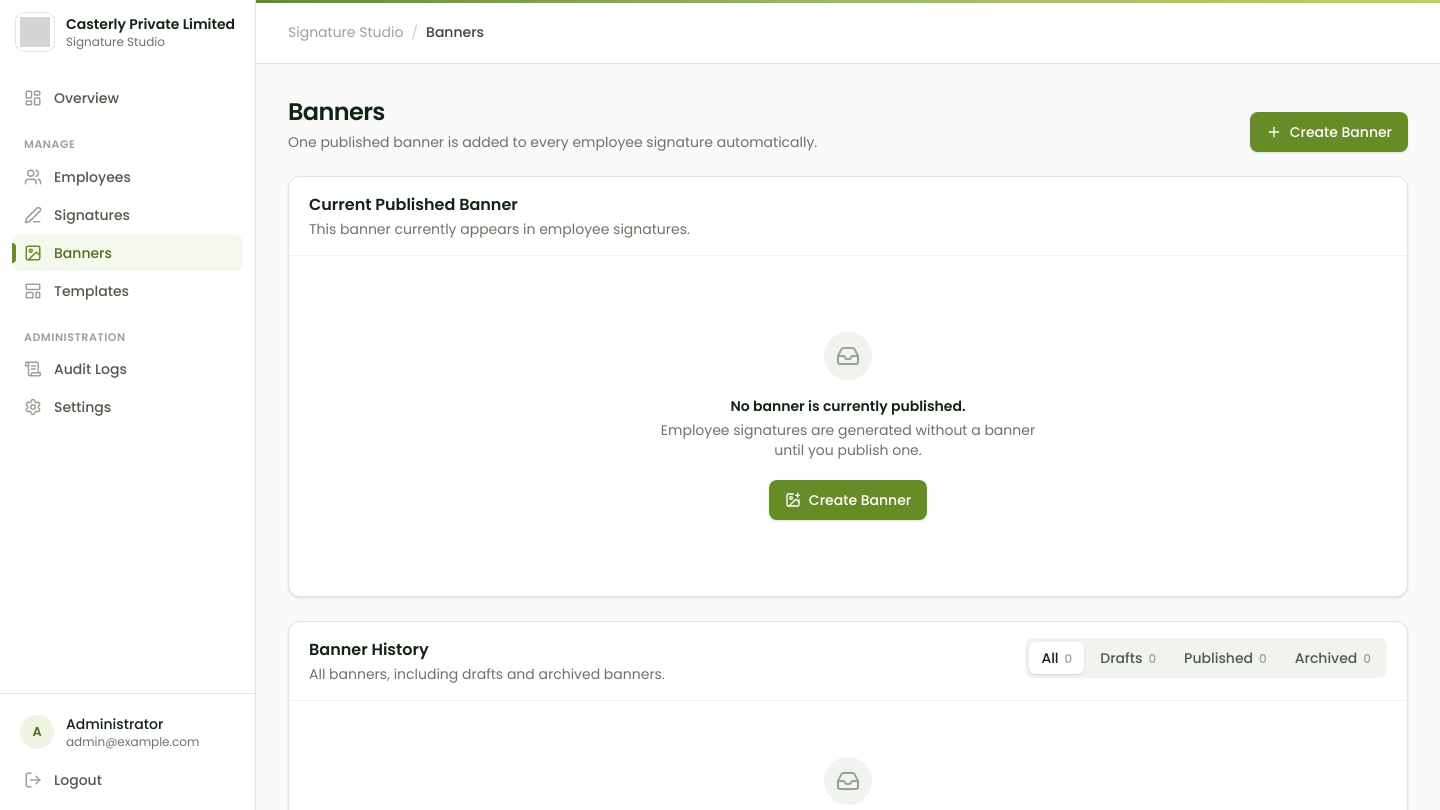
Test: Banner creation & preview › requires name, title and image
Click the 1st button "Create Banner" at (1329, 132), box [1250,112,1408,152]
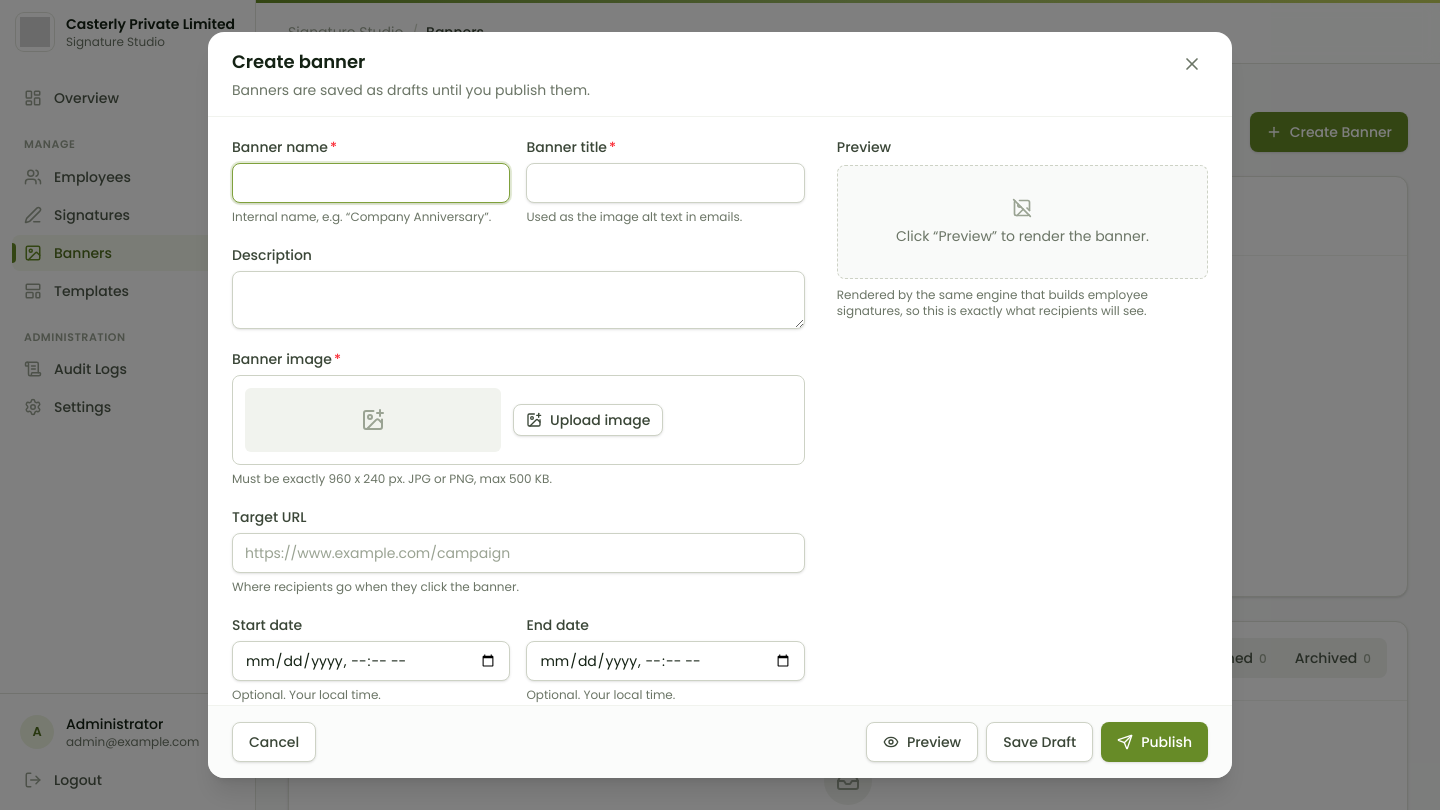
Click the button "Save Draft" at (1040, 742), box [986,722,1093,762]
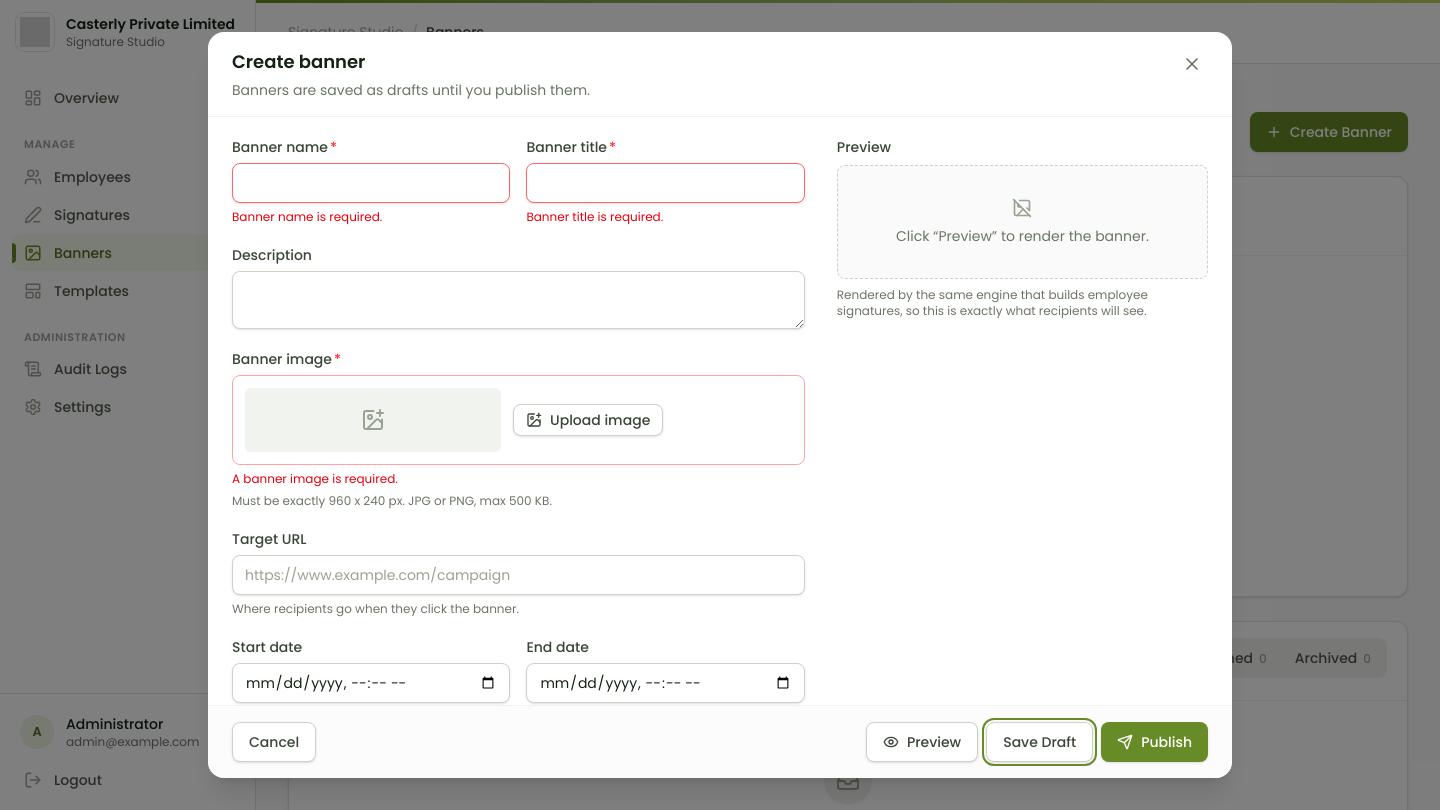
Expected: the text "Banner name is required." is shown, [232,208,382,225]
Expected: the text "Banner title is required." is shown, [526,208,663,225]
Expected: the text "A banner image is required." is shown, [232,470,398,487]
